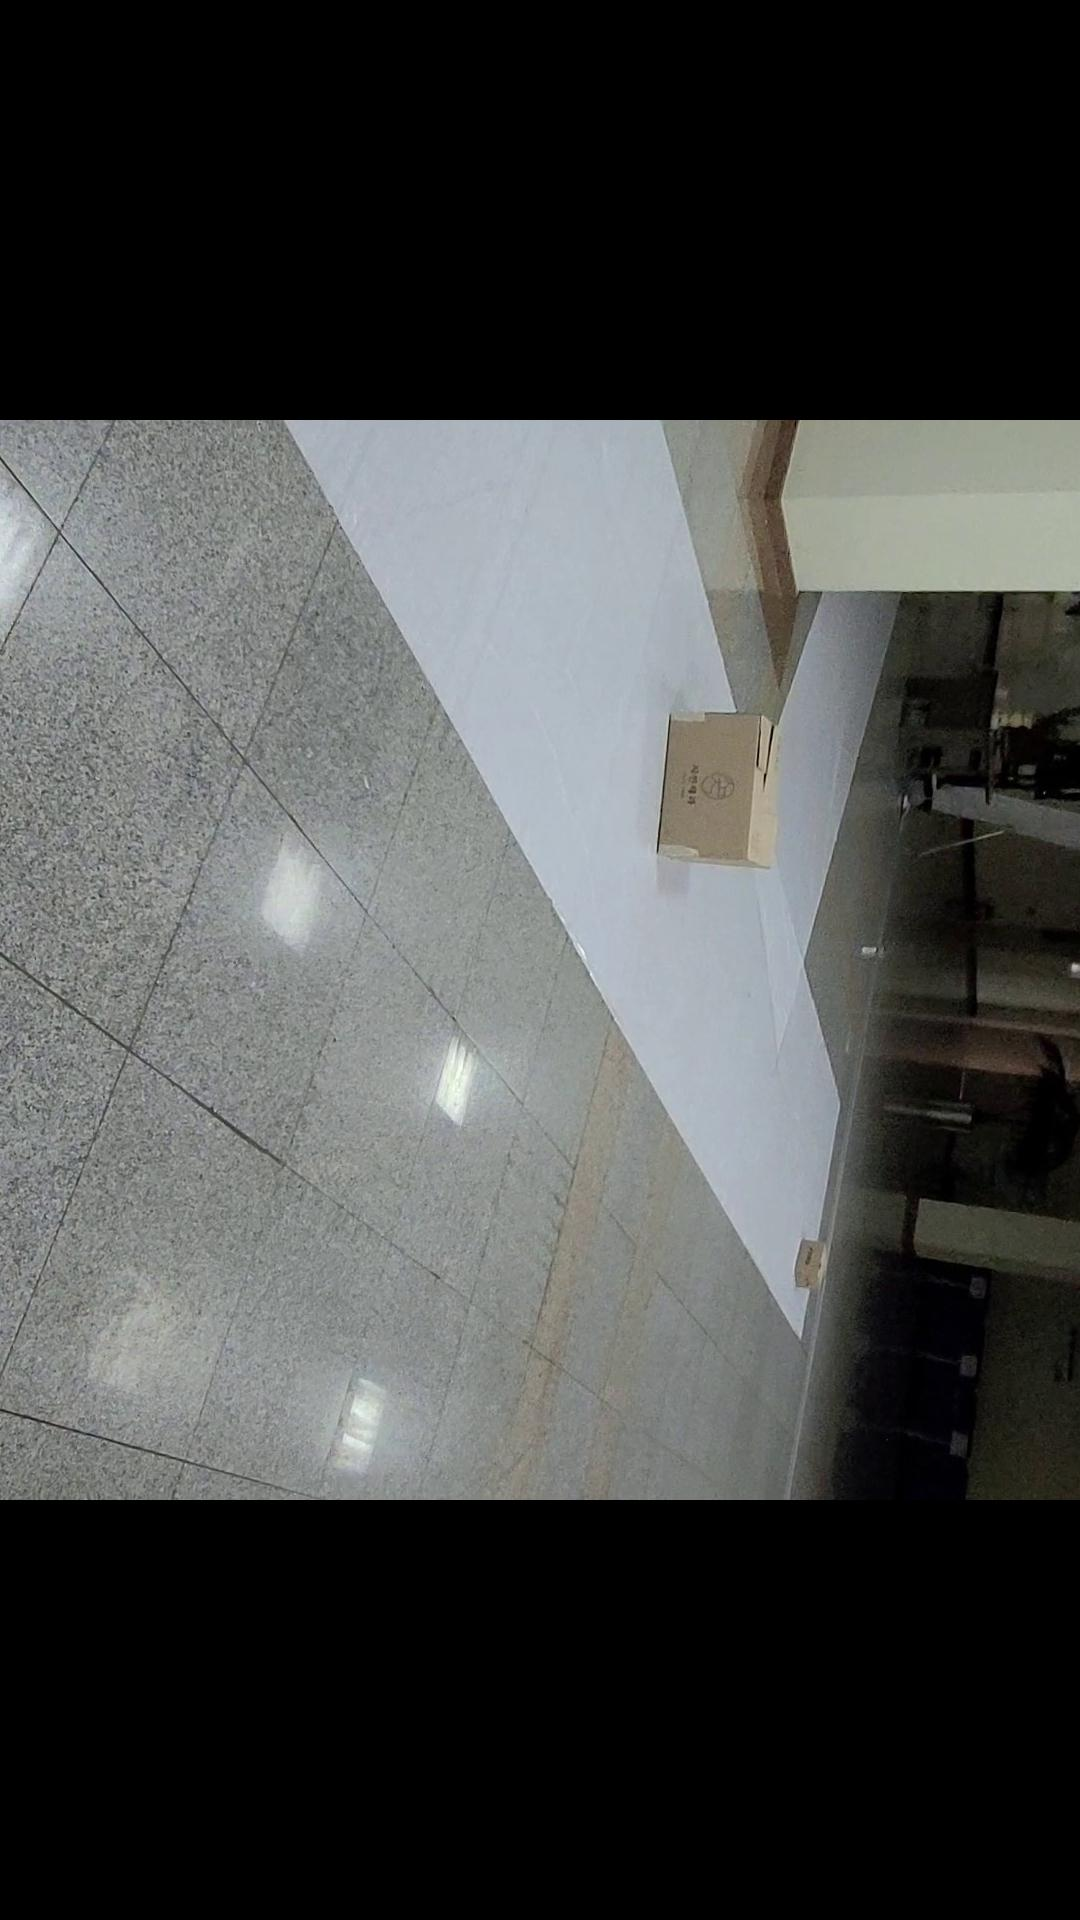Box: (625, 683, 829, 899)
